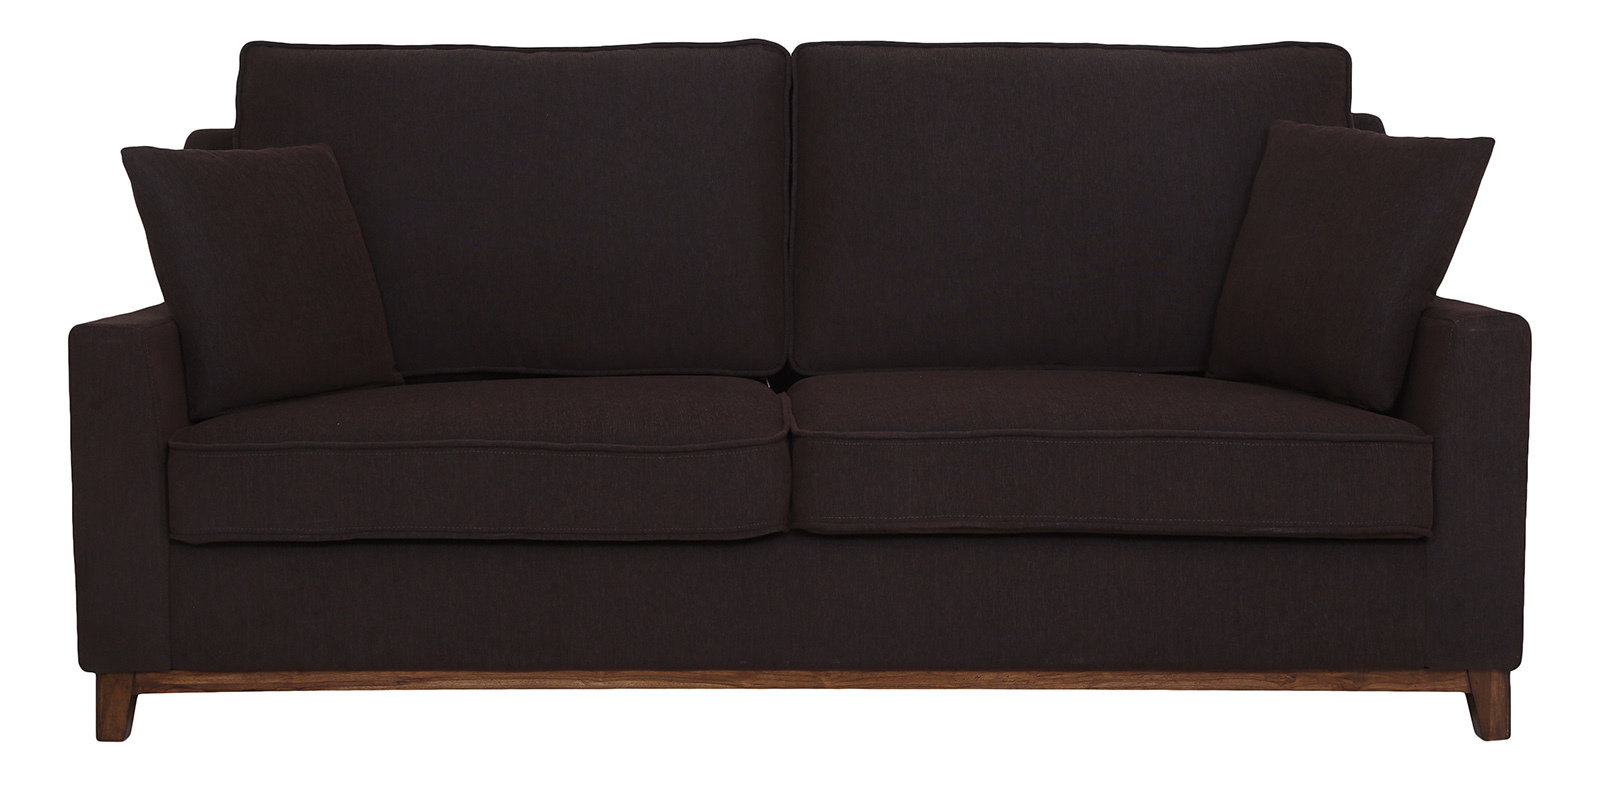Diego Three Seater Sofa in Chestnut Brown Colour by CasaCraft: (65, 33, 1538, 770)
